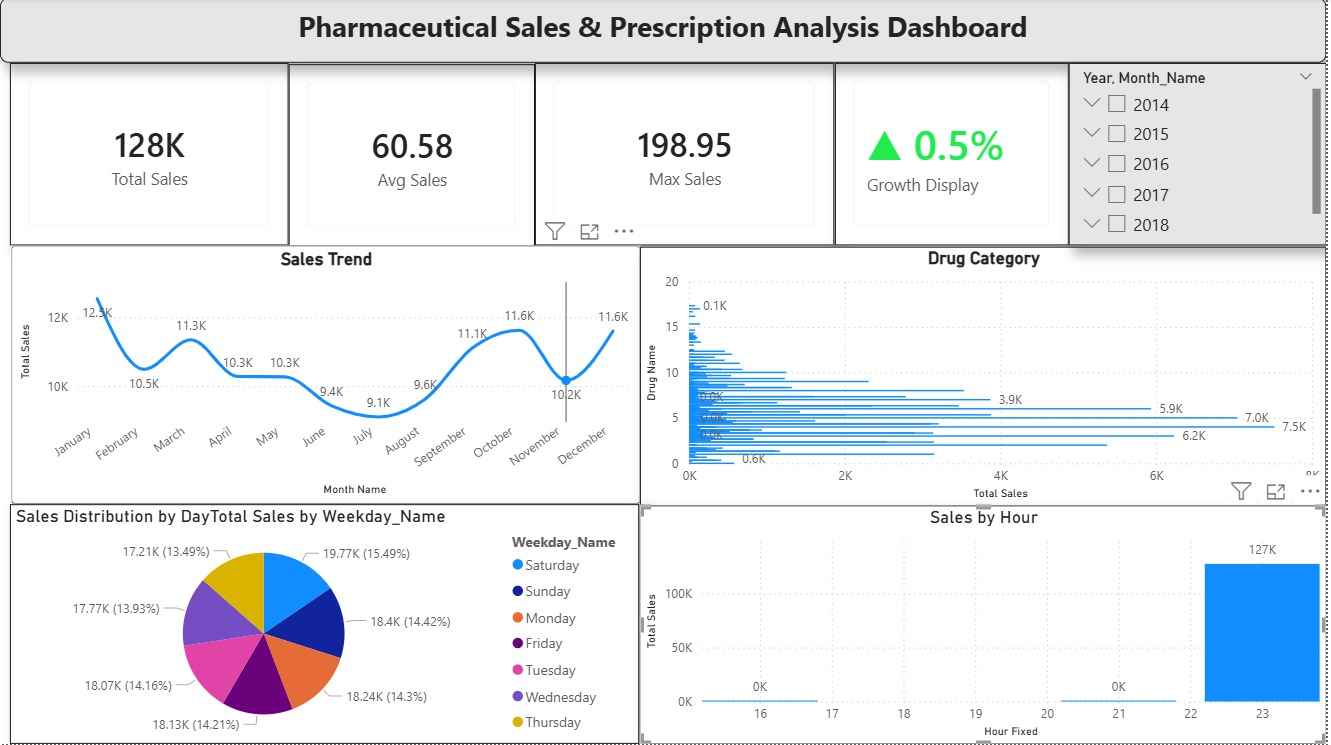

The page's visual inventory and layout, read from the dashboard file:
{"tool":"powerbi","page":{"name":"Page 1","canvas":[1280,720],"ordinal":0},"visuals":[{"type":"cardVisual","fields":{"Data":["clean_daily.Total Sales"]},"box":[10,62.5,268.8,176.2],"z":0},{"type":"cardVisual","fields":{"Data":["clean_daily.Avg Sales"]},"box":[278.8,63.8,237.5,176.2],"z":1000},{"type":"cardVisual","fields":{"Data":["clean_daily.Max Sales"]},"box":[516.2,62.5,288.8,176.2],"z":2000},{"type":"cardVisual","fields":{"Data":["clean_daily.Growth Display"]},"box":[805.9,62.7,225.6,176.1],"z":3000},{"type":"textbox","box":[0,0,1280,62.2],"z":4000},{"type":"lineChart","title":"Sales Trend","fields":{"Category":["DateTable.Month Name"],"Y":["clean_daily.Total Sales"]},"box":[10.9,238.9,606.8,249.7],"z":5000},{"type":"clusteredBarChart","title":"Drug Category","fields":{"Category":["clean_daily.M01AB","clean_daily.M01AE","clean_daily.N02BA","clean_daily.N02BE","clean_daily.N05B","clean_daily.N05C","clean_daily.R03","clean_daily.R06"],"Y":["clean_daily.Total Sales"]},"box":[617.5,240,662.5,250],"z":6000},{"type":"pieChart","title":"Sales Distribution by DayTotal Sales by Weekday_Name","fields":{"Category":["clean_daily.Weekday_Name"],"Y":["clean_daily.Total Sales"]},"box":[10,488.8,607.5,231.2],"z":7000},{"type":"columnChart","title":"Sales by Hour","fields":{"Category":["clean_daily.Hour Fixed"],"Y":["clean_daily.Total Sales"]},"box":[617.7,489.8,662.3,230.4],"z":8000},{"type":"slicer","fields":{"Values":["clean_daily.Year","clean_daily.Month_Name"]},"box":[1031.2,62.5,248.8,176.2],"z":9000}]}

Visuals, with their boxes in screenshot pixels (x1, y1, x2, y2), scaled from the page's 1280x720 canvas onto the 1331x745 screenshot:
cardVisual - clean_daily.Total Sales: detection(10, 65, 290, 247)
cardVisual - clean_daily.Avg Sales: detection(290, 66, 537, 248)
cardVisual - clean_daily.Max Sales: detection(537, 65, 837, 247)
cardVisual - clean_daily.Growth Display: detection(838, 65, 1073, 247)
textbox: detection(0, 0, 1330, 64)
"Sales Trend" lineChart: detection(11, 247, 642, 506)
"Drug Category" clusteredBarChart: detection(642, 248, 1330, 507)
"Sales Distribution by DayTotal Sales by Weekday_Name" pieChart: detection(10, 506, 642, 744)
"Sales by Hour" columnChart: detection(642, 507, 1330, 744)
slicer - clean_daily.Year x clean_daily.Month_Name: detection(1072, 65, 1330, 247)
